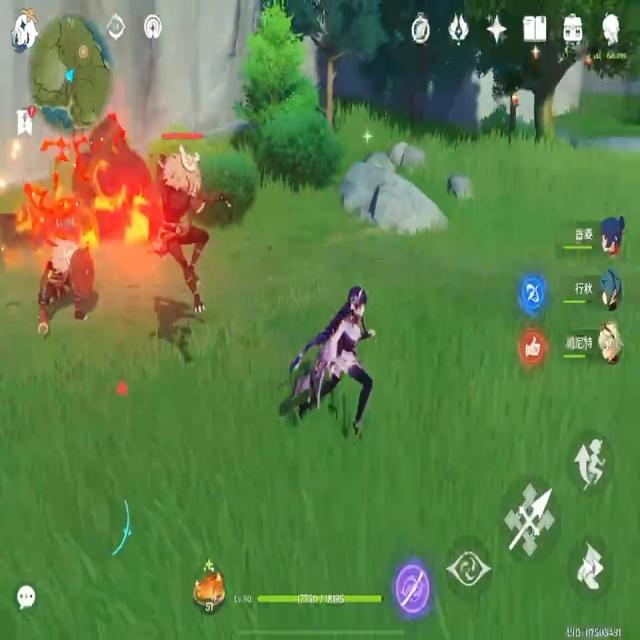genshin-hilichurls: (156, 128, 225, 332), (39, 215, 98, 345)
